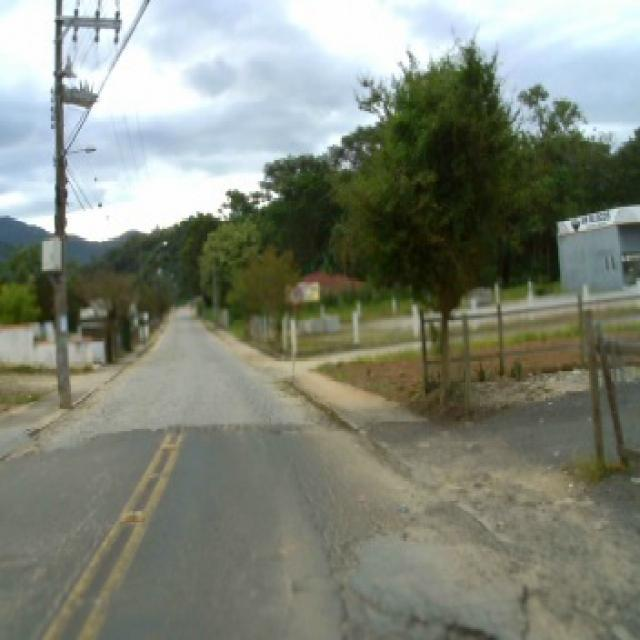Poth-hole: (296, 471, 408, 625), (440, 618, 500, 636), (514, 578, 531, 636), (404, 607, 432, 629), (266, 426, 298, 434), (122, 509, 144, 520), (160, 442, 175, 449)
